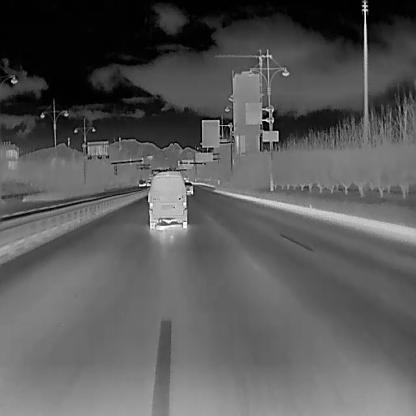car: (147, 171, 188, 228), (184, 180, 193, 194), (138, 180, 145, 185), (146, 179, 151, 186)
